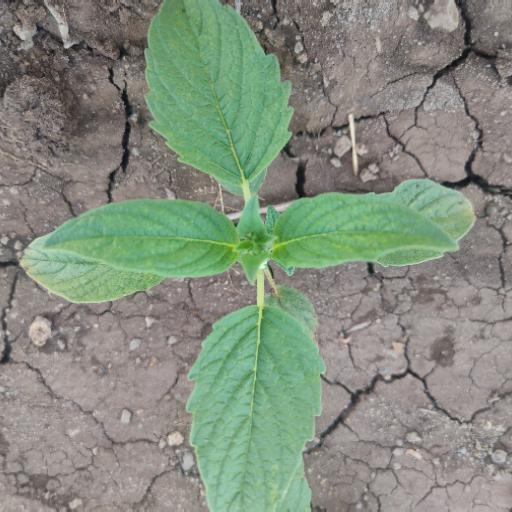crop: (15, 2, 478, 512)
